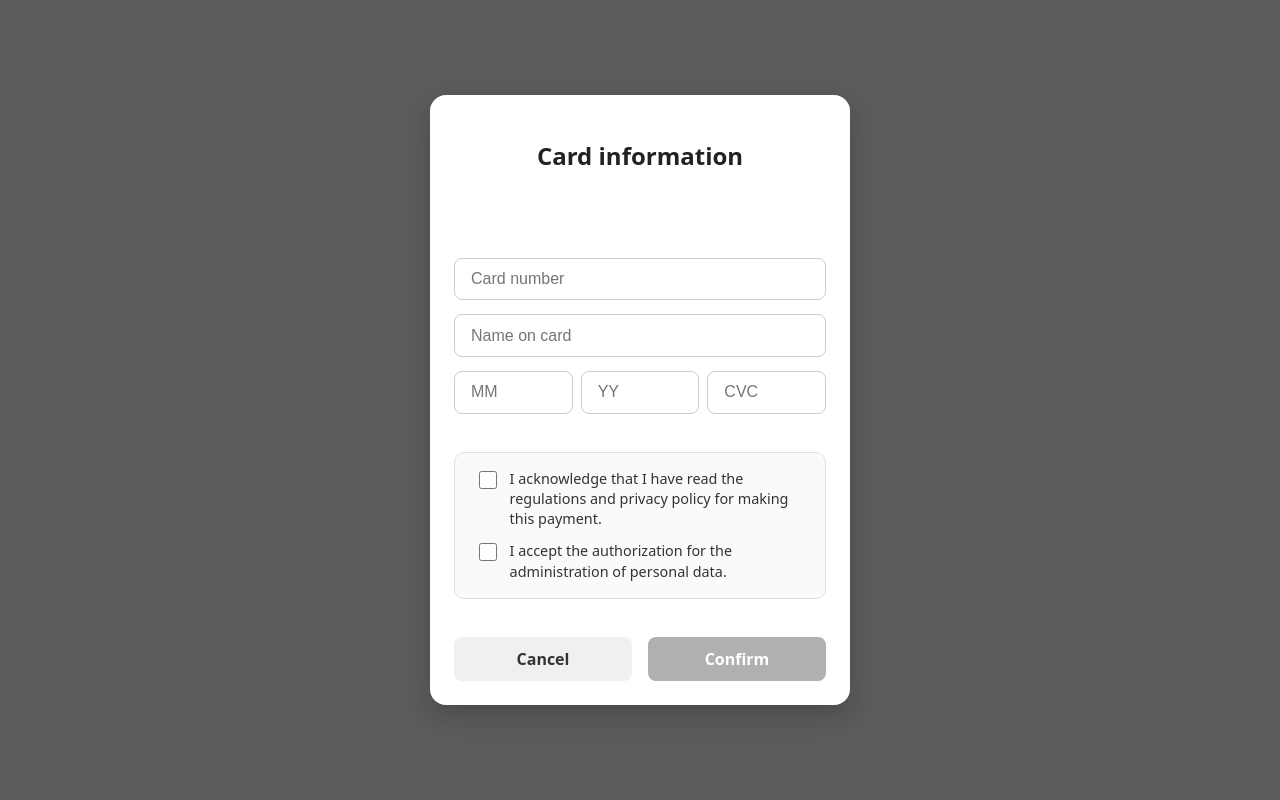
Test case: CreditCardModal › Form Validation › should show validation error for invalid expiration month
Type "13" into the field with placeholder "MM". click: (513, 392)
box: [454,371,573,414]
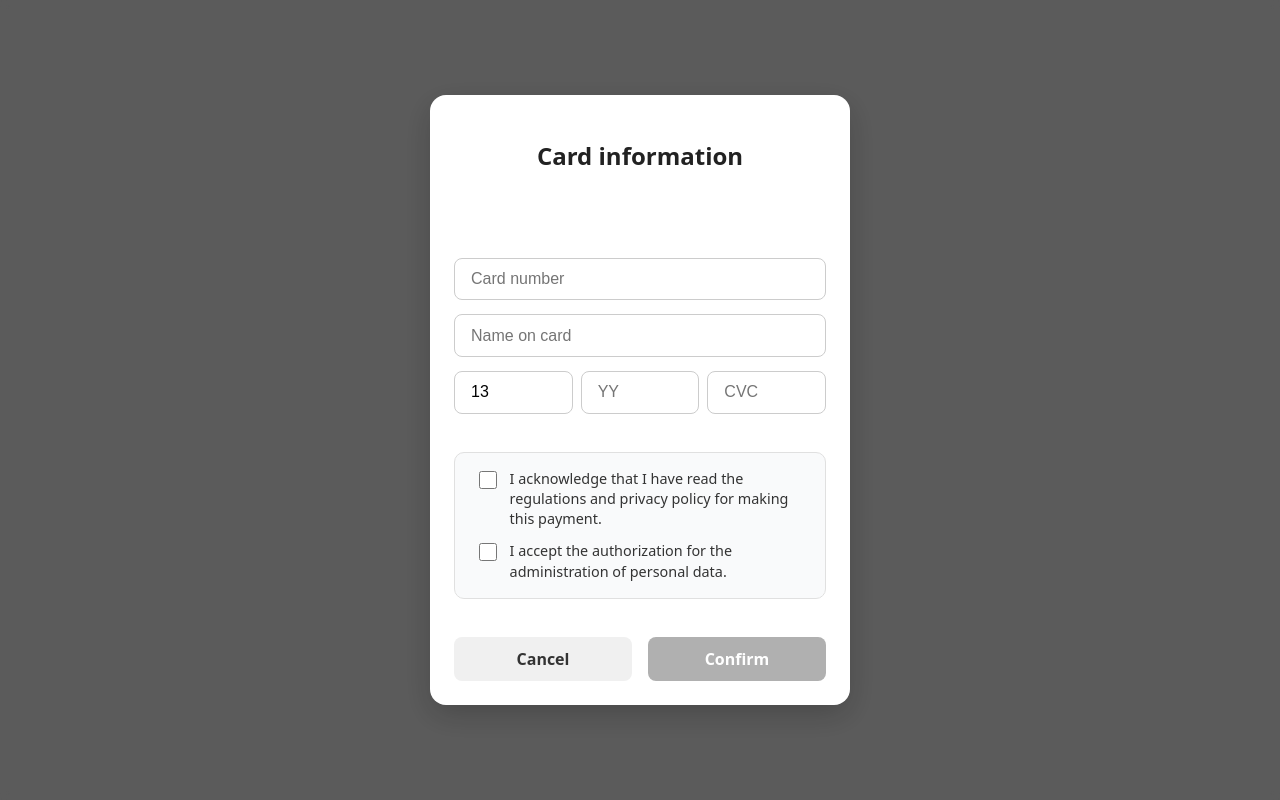
Check both checkboxes to enable submit
Click the 1st checkbox. click: (488, 480)
box: [479,471,497,489]
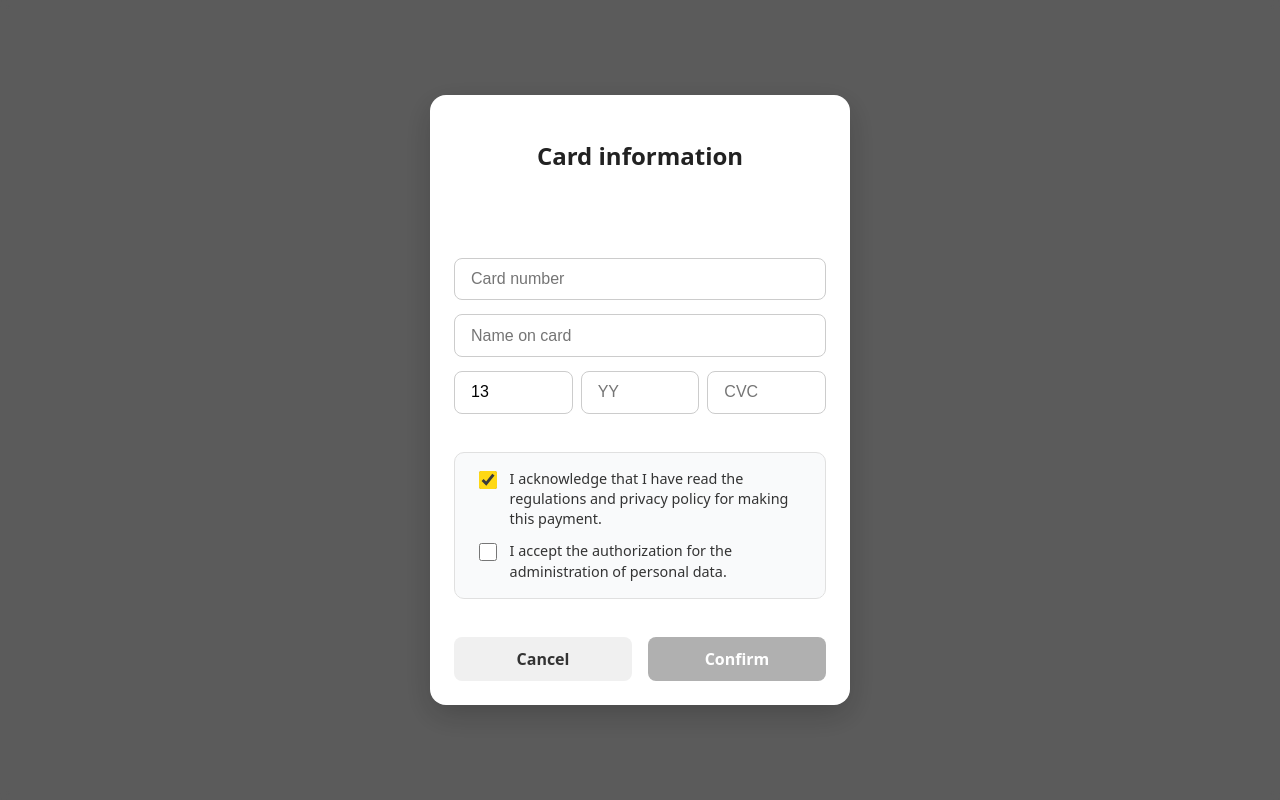
Click the 2nd checkbox. click: (488, 552)
box: [479,543,497,561]
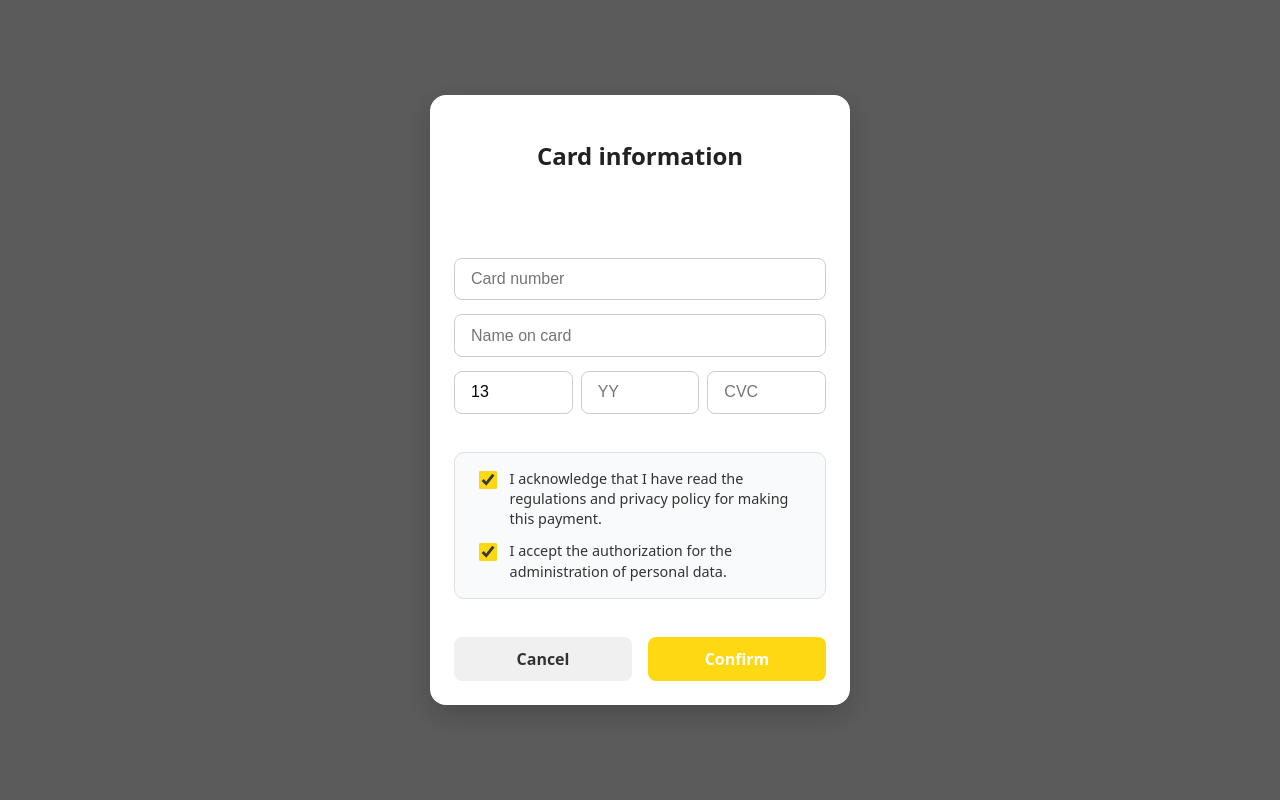
Submit the form with placeholder "MM", box [454,258,826,681]
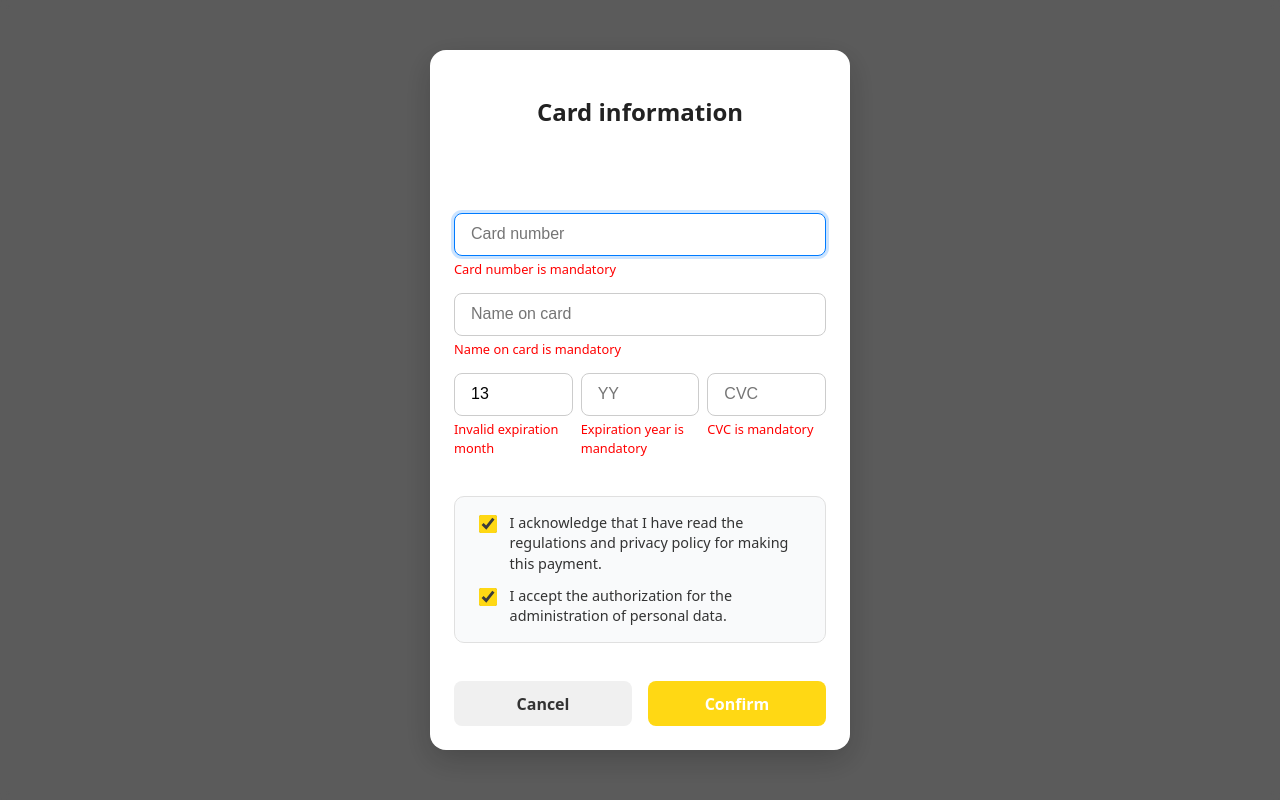
Now the text "Invalid expiration month" is shown, box [454,420,573,458]
